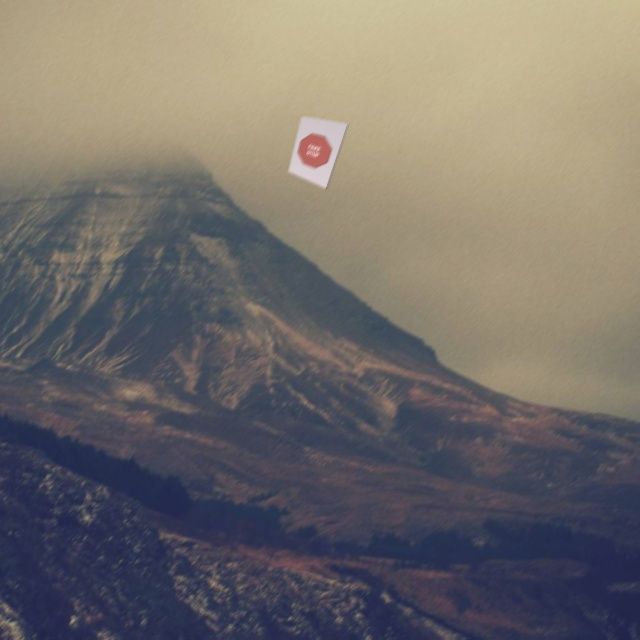FAKE_STOP: (296, 131, 336, 173)
